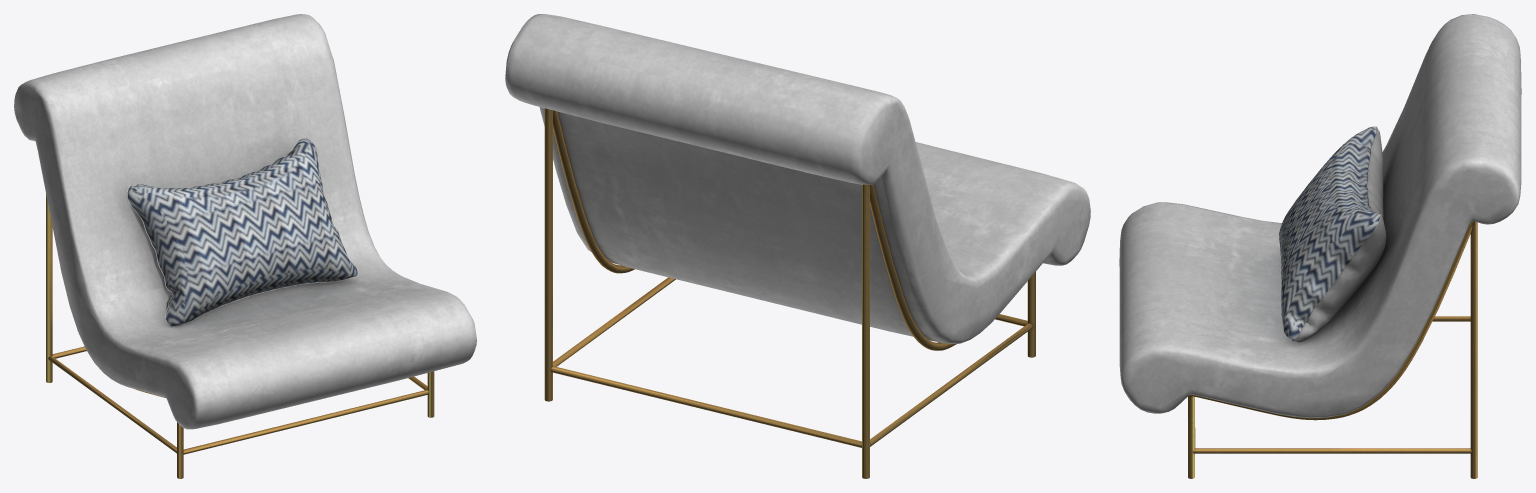
File: raw_model.obj
3 views of the same model, side by side, from view 1: azimuth 30°, elevation 25°; view 2: azimuth 150°, elevation 25°; view 3: azimuth 270°, elevation 25° (orthographic). The views are drawn at different scales.
Parts seen in each view (by area): view 1: solid_001, solid_003, solid_002, solid_004; view 2: solid_001, solid_002; view 3: solid_001, solid_003, solid_002, solid_004.
Boxes of the visible parts, <box> form: solid_001: <box>14,14,476,429</box>; solid_003: <box>127,138,357,326</box>; solid_002: <box>46,194,434,478</box>; solid_004: <box>126,138,358,327</box>; solid_001: <box>505,14,1090,343</box>; solid_002: <box>544,108,1035,478</box>; solid_001: <box>1119,14,1521,418</box>; solid_003: <box>1279,126,1380,340</box>; solid_002: <box>1188,221,1477,478</box>; solid_004: <box>1292,126,1386,342</box>.
Size of the model in its own units: 0.9864 by 1.01 by 1.12.
Materials: 1 (1 with a texture image).
